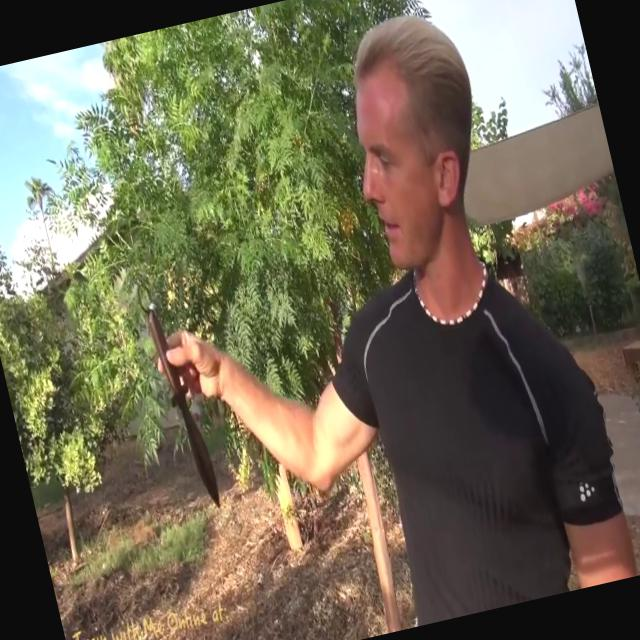knife: (133, 278, 229, 516)
